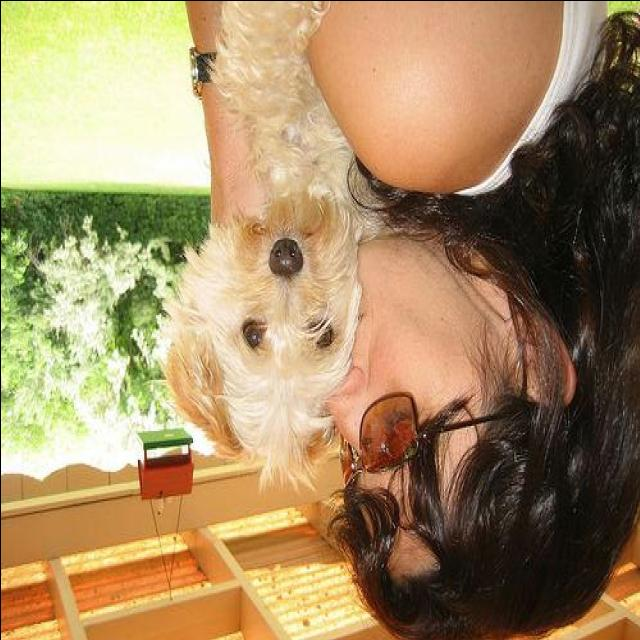maltese_dog: (161, 1, 380, 494)
